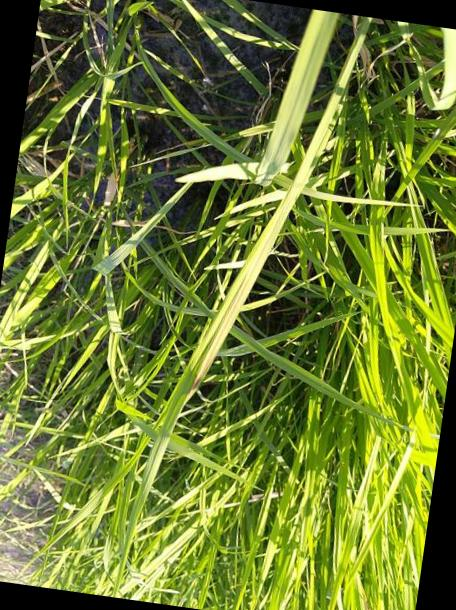Leaf Streak: (184, 264, 264, 404)
